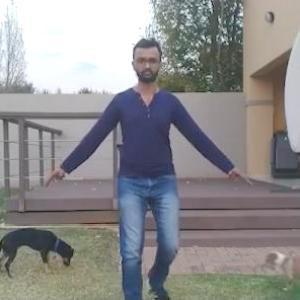land: (73, 57, 222, 293)
